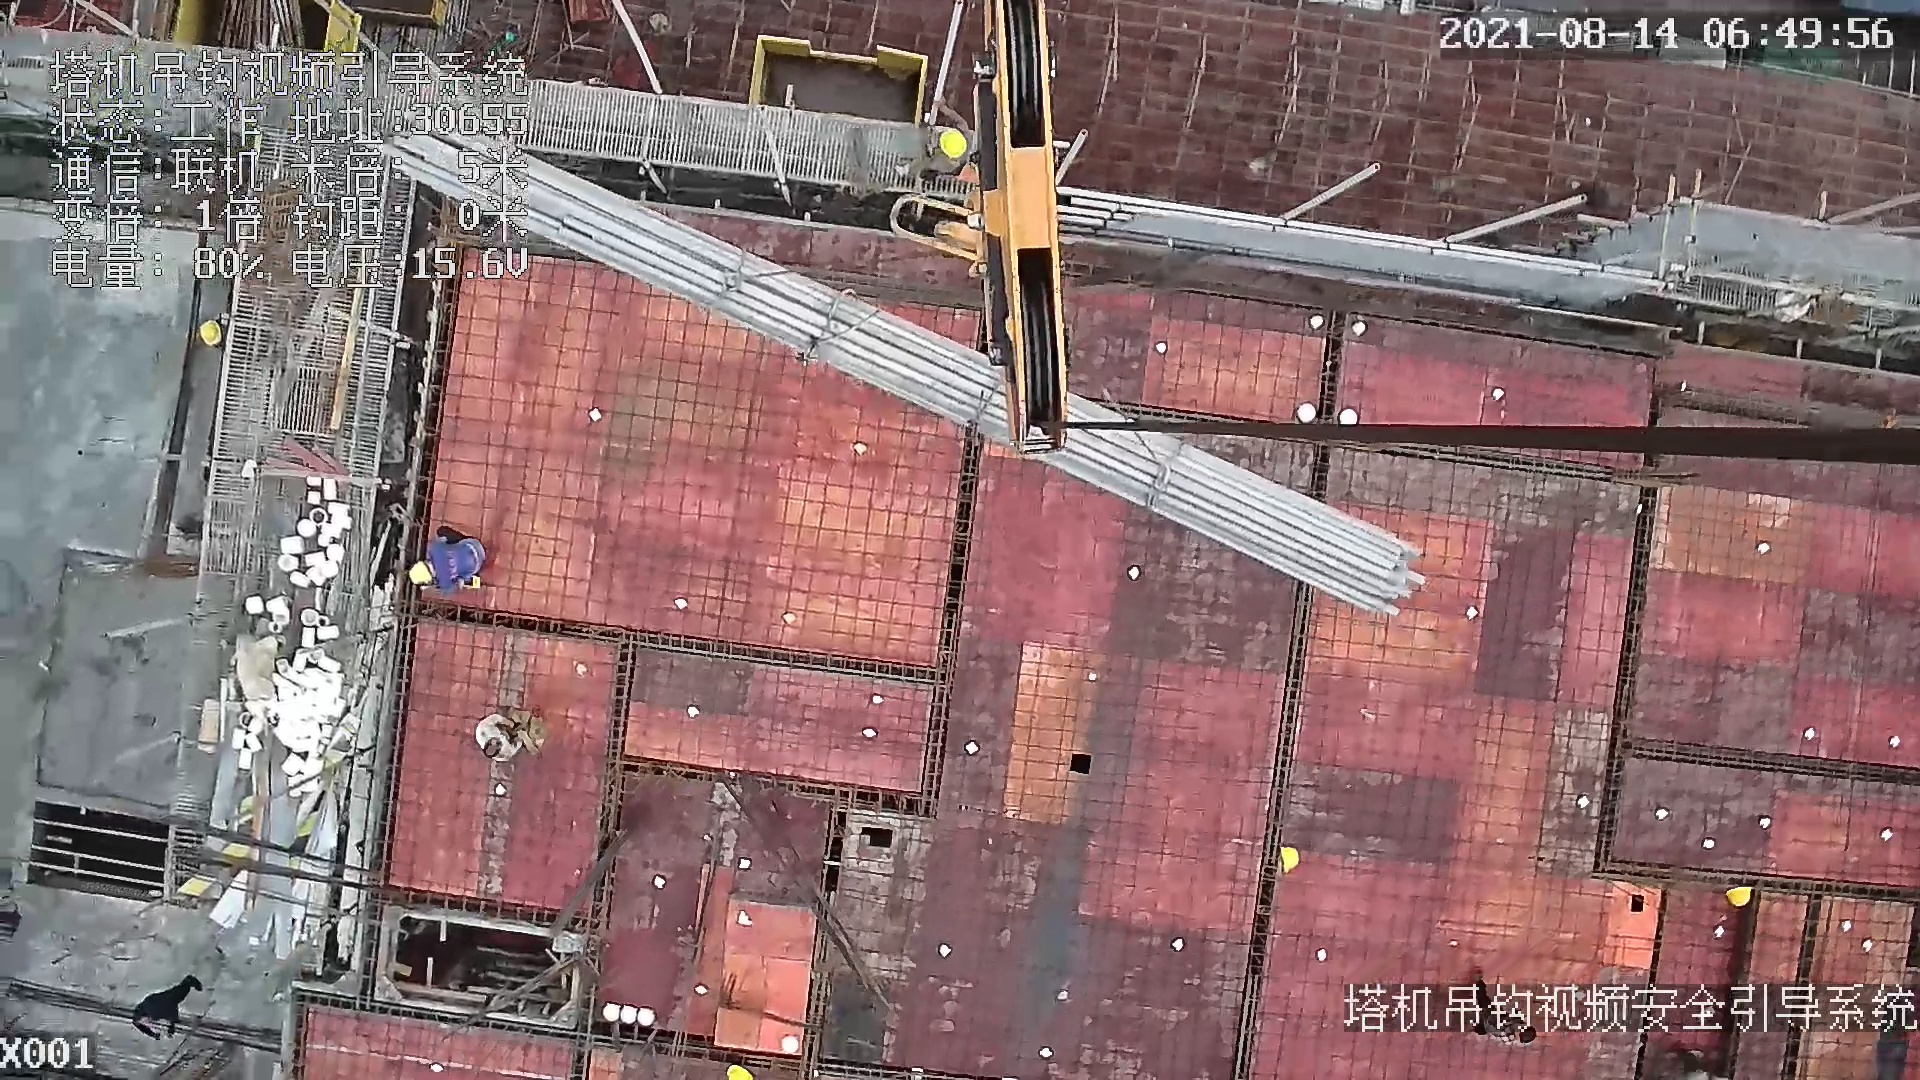helmet: (1716, 872, 1758, 919), (1265, 842, 1311, 884), (197, 312, 223, 351), (936, 132, 965, 161)
person: (121, 962, 215, 1048), (410, 526, 499, 597), (931, 115, 985, 187), (472, 701, 541, 758), (193, 315, 239, 357)
